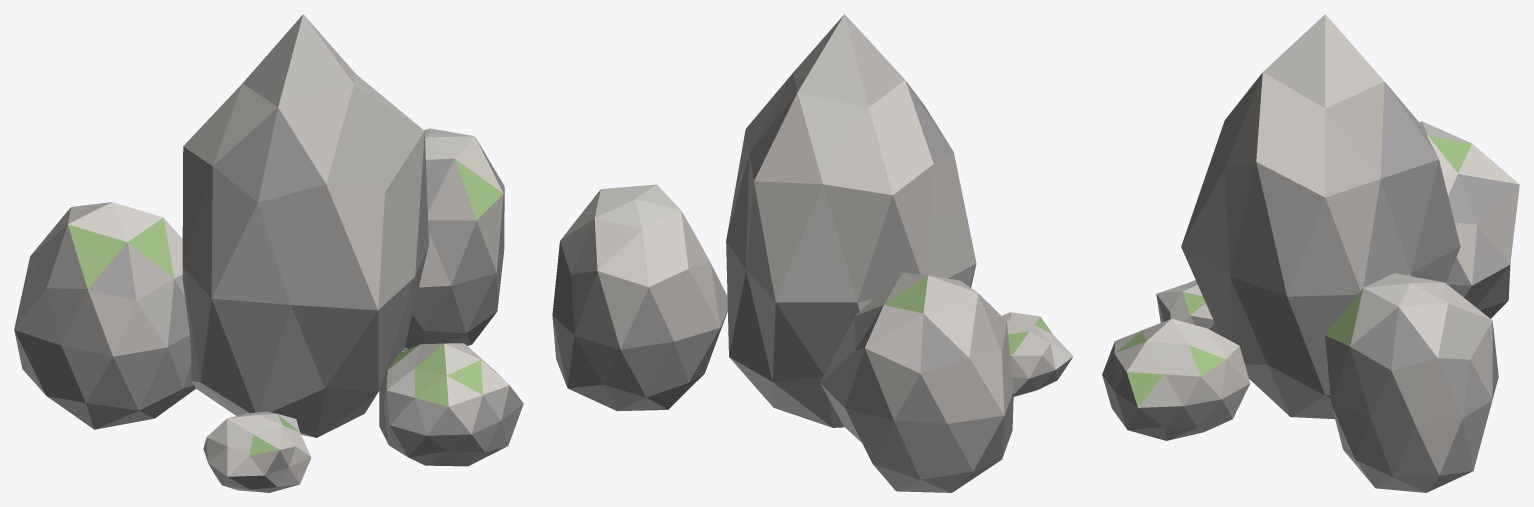
Rendered from Outcrop.glb.
3 views of the same model, side by side, from view 1: azimuth 30°, elevation 25°; view 2: azimuth 150°, elevation 25°; view 3: azimuth 270°, elevation 25° (orthographic). The views are drawn at different scales.
Visible parts, largest first — view 1: Outcrop_Rock0, Outcrop_Rock2, Outcrop_Rock1, Outcrop_Rock3, Outcrop_Rock4; view 2: Outcrop_Rock0, Outcrop_Rock2, Outcrop_Rock1, Outcrop_Rock4; view 3: Outcrop_Rock0, Outcrop_Rock1, Outcrop_Rock3, Outcrop_Rock2, Outcrop_Rock4.
Part boxes in pixels (x1=…): Outcrop_Rock0: x1=182, y1=14, x2=428, y2=437; Outcrop_Rock2: x1=14, y1=202, x2=195, y2=429; Outcrop_Rock1: x1=403, y1=128, x2=504, y2=350; Outcrop_Rock3: x1=379, y1=343, x2=523, y2=466; Outcrop_Rock4: x1=203, y1=411, x2=311, y2=492; Outcrop_Rock0: x1=726, y1=14, x2=976, y2=427; Outcrop_Rock2: x1=820, y1=272, x2=1013, y2=492; Outcrop_Rock1: x1=552, y1=184, x2=727, y2=411; Outcrop_Rock4: x1=1002, y1=312, x2=1073, y2=396; Outcrop_Rock0: x1=1181, y1=14, x2=1460, y2=419; Outcrop_Rock1: x1=1325, y1=273, x2=1498, y2=492; Outcrop_Rock3: x1=1102, y1=319, x2=1250, y2=440; Outcrop_Rock2: x1=1420, y1=121, x2=1519, y2=318; Outcrop_Rock4: x1=1156, y1=280, x2=1219, y2=334.
Bounding box in the file's own units: 3.04 × 2.47 × 2.45.
